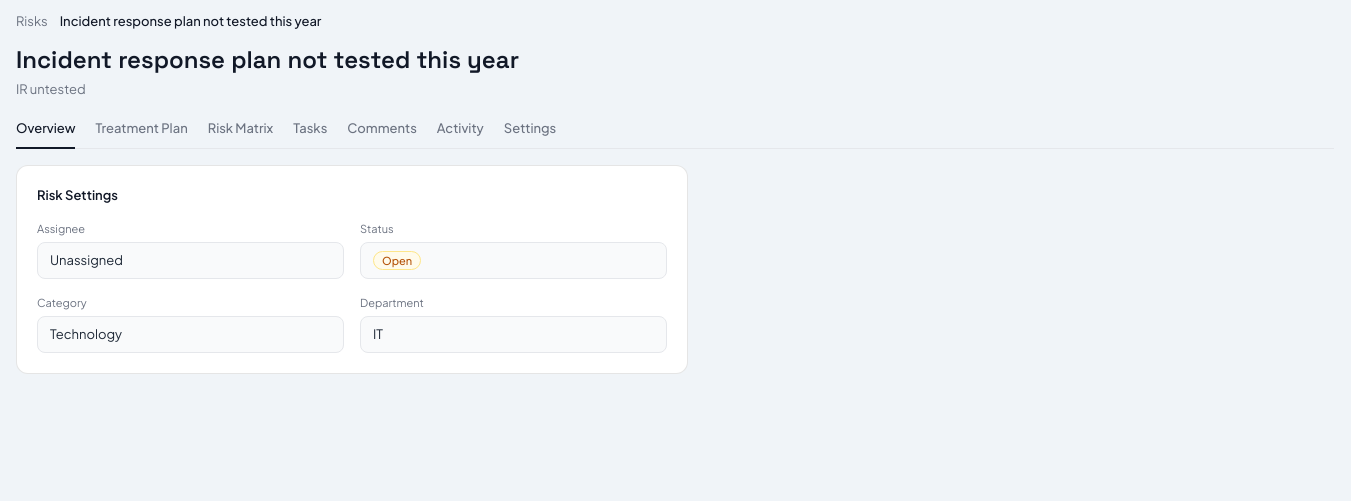
Scenario: Soc2RiskDetailPage › renders the 5x5 matrix on the Risk Matrix tab
Click the button "Risk Matrix". click: coordinates (240, 134)
box: [208,119,273,148]
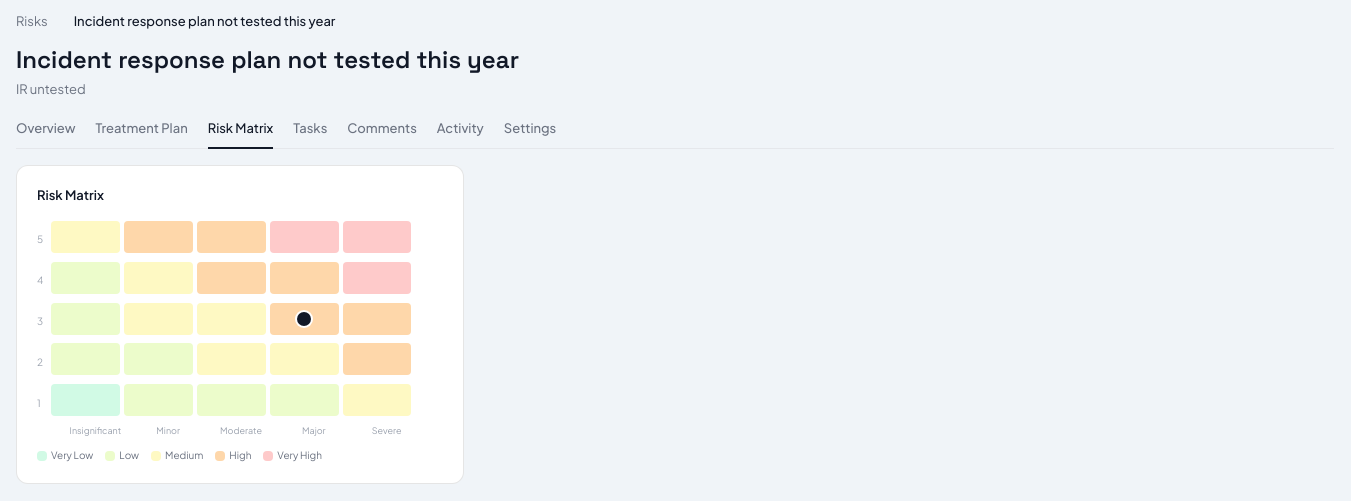
Result: the text "Medium" is shown at [151,448,203,463]
